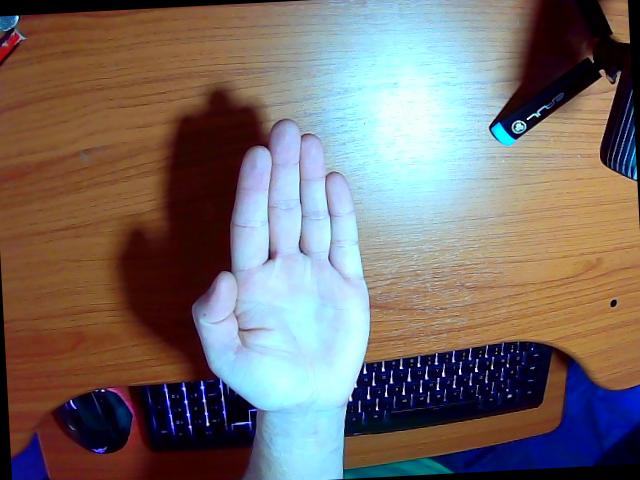paper: (192, 120, 370, 480)
